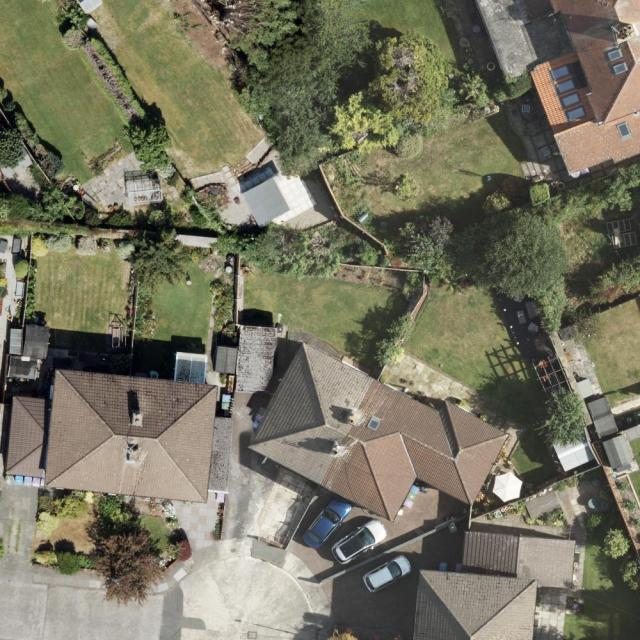roof: (247, 339, 510, 525), (4, 351, 233, 505), (527, 0, 640, 176), (411, 530, 576, 640)
skylight: (565, 104, 589, 123), (558, 89, 582, 108), (553, 77, 577, 94), (550, 63, 572, 81), (364, 415, 384, 434), (616, 119, 633, 141), (611, 60, 630, 77), (606, 47, 625, 61)
